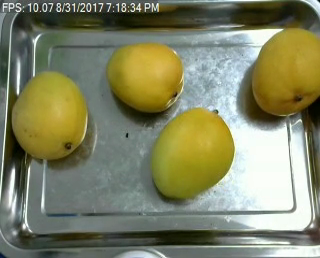Mango: (151, 107, 234, 198), (10, 71, 89, 159), (253, 25, 320, 117), (107, 43, 184, 110)
